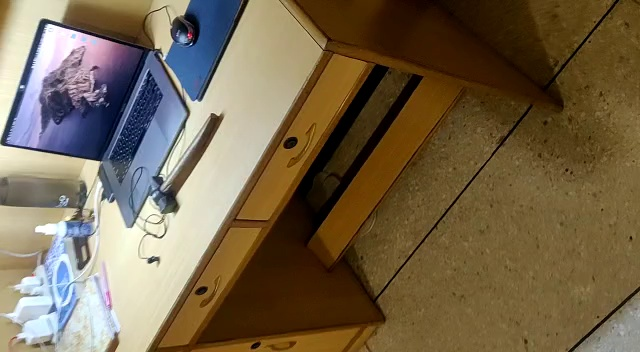hammer: (144, 111, 222, 214)
